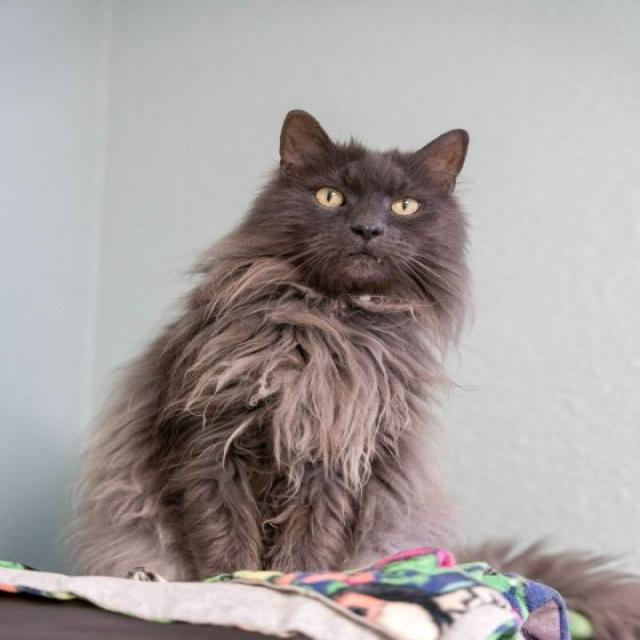domestic_long_hair_cat: (236, 103, 497, 301)
